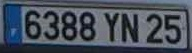character: (77, 11, 97, 41), (120, 12, 139, 43), (164, 13, 182, 44), (145, 13, 163, 43), (42, 9, 59, 40), (60, 10, 77, 41), (23, 10, 41, 39), (103, 11, 119, 43)
